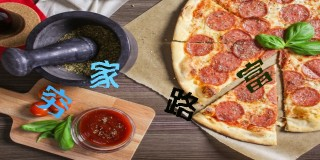家: (91, 58, 120, 90)
富: (236, 58, 273, 93)
穷: (38, 85, 71, 118)
路: (164, 87, 198, 121)
